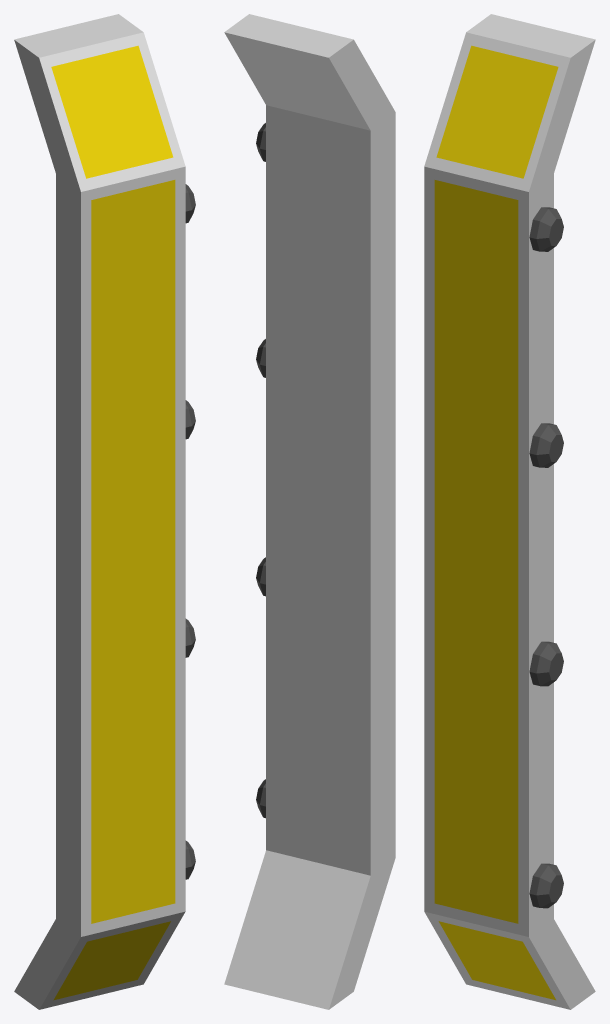
3 renders of one model, left to right at view 1: azimuth 30°, elevation 25°; view 2: azimuth 150°, elevation 25°; view 3: azimuth 330°, elevation 25°, orthographic.
Parts seen in each view (by area): view 1: pCube1; view 2: pCube1; view 3: pCube1, pCylinder3, pCylinder4, pCylinder2, pCylinder1.
Boxes of the visible parts, box(x1,y1,x2,y2) form: pCube1: box(14, 14, 185, 1009); pCube1: box(224, 14, 395, 1009); pCube1: box(424, 14, 595, 1009); pCylinder3: box(529, 641, 563, 686); pCylinder4: box(529, 863, 563, 908); pCylinder2: box(529, 207, 563, 251); pCylinder1: box(529, 423, 563, 467).
Bounding box in the file's own units: 1.15 × 8.69 × 1.11.
